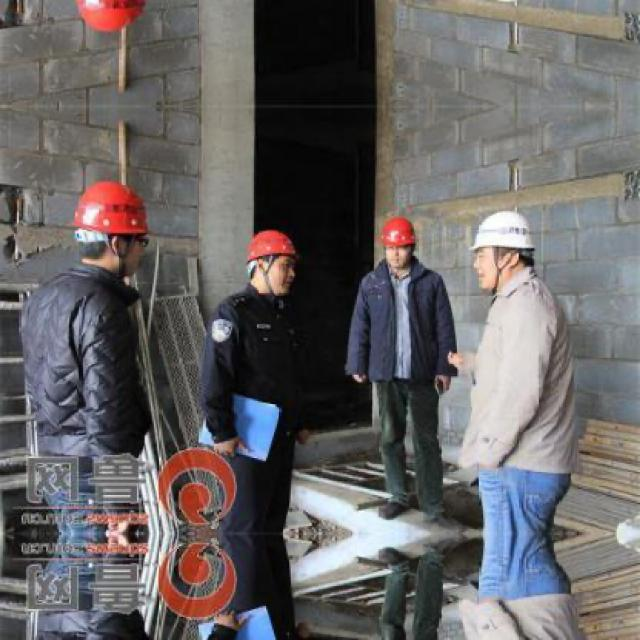helmet: (66, 168, 154, 282), (466, 203, 549, 294), (240, 220, 308, 304), (67, 0, 156, 46), (378, 212, 420, 268)
